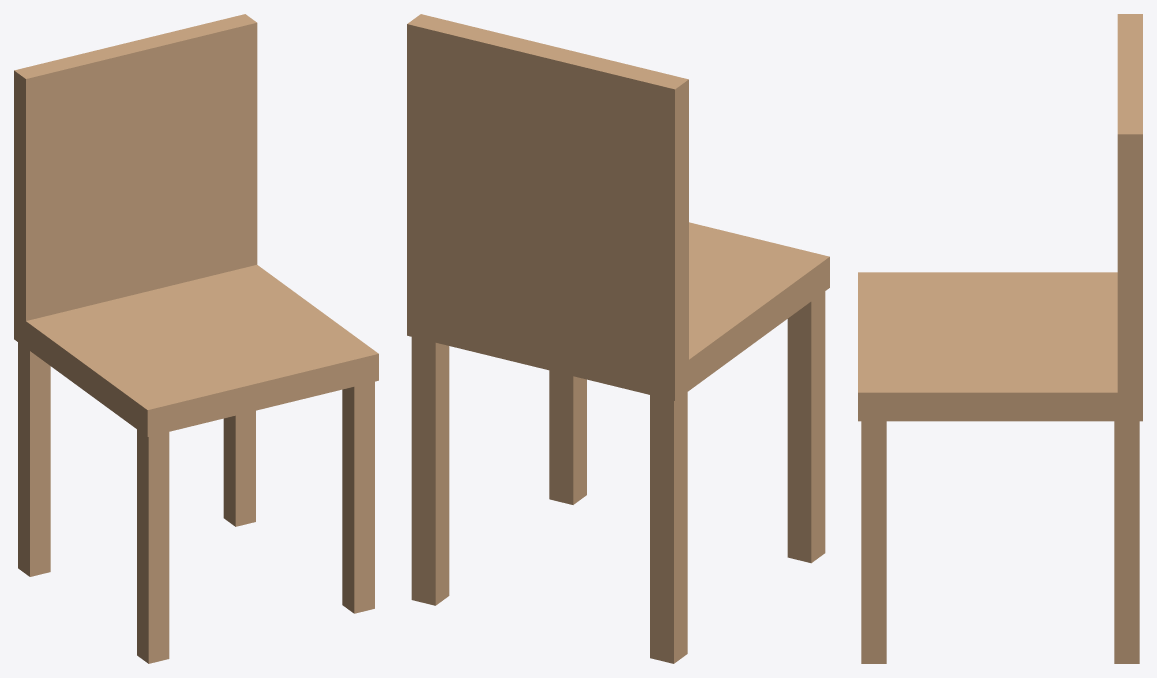
Rendered from silla.glb.
3 views of the same model, side by side, from view 1: azimuth 30°, elevation 25°; view 2: azimuth 150°, elevation 25°; view 3: azimuth 270°, elevation 25° (orthographic). The views are drawn at different scales.
Parts seen in each view (by area): view 1: geometry_0; view 2: geometry_0; view 3: geometry_0.
Boxes of the visible parts, <box> form: geometry_0: <box>14,14,378,663</box>; geometry_0: <box>407,14,829,663</box>; geometry_0: <box>858,14,1142,663</box>.
Bounding box in the file's own units: 0.45 × 0.925 × 0.45.
